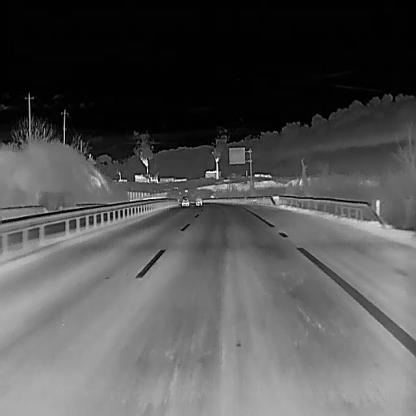car: (194, 194, 202, 206), (181, 195, 189, 206)
